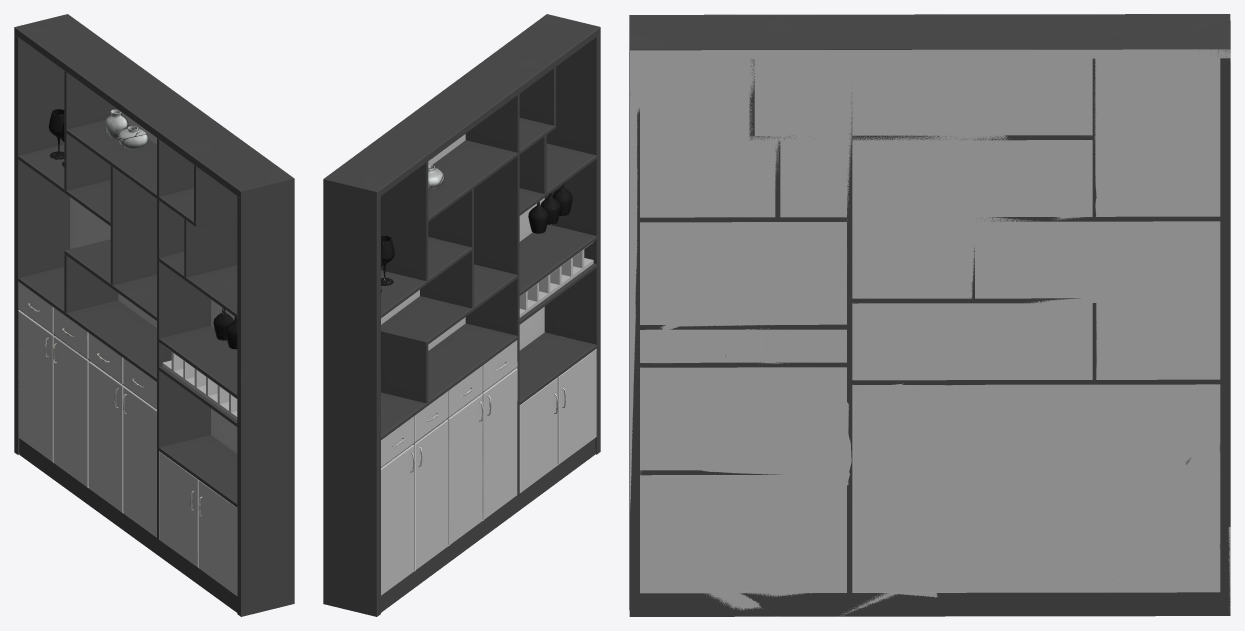
The model's file is cabinet_hutch_buffet_5b84b388-118c-52a2-b842-2402c11e8b38.glb.
3 renders of one model, left to right at view 1: azimuth 30°, elevation 25°; view 2: azimuth 150°, elevation 25°; view 3: azimuth 270°, elevation 25°, orthographic. The views are drawn at different scales.
Visible parts, largest first — view 1: raw_model.obj; view 2: raw_model.obj; view 3: raw_model.obj.
Part boxes in pixels (x1,y1,x2,y2): raw_model.obj: (14,14,294,616); raw_model.obj: (323,14,600,616); raw_model.obj: (629,14,1230,616).
Bounding box in the file's own units: 0.3483 × 2.42 × 2.32.
Materials: 1 (1 with a texture image).
